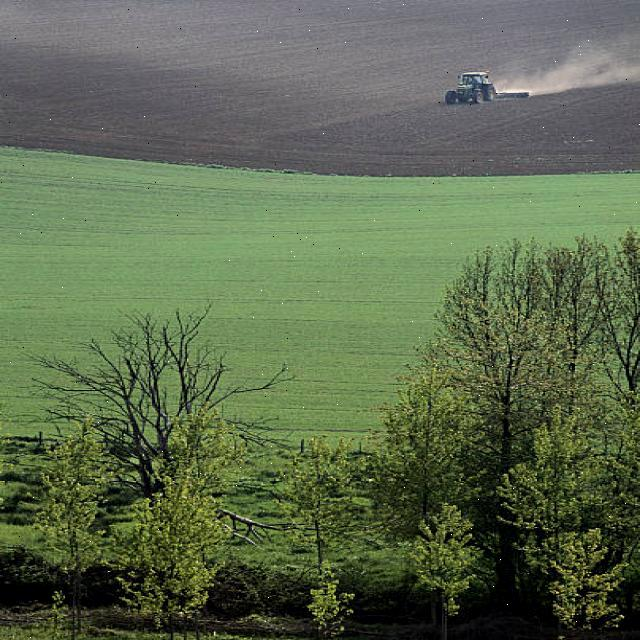Tratores - v5 YOLO V8L 2024-11-13: (437, 68, 503, 104)
